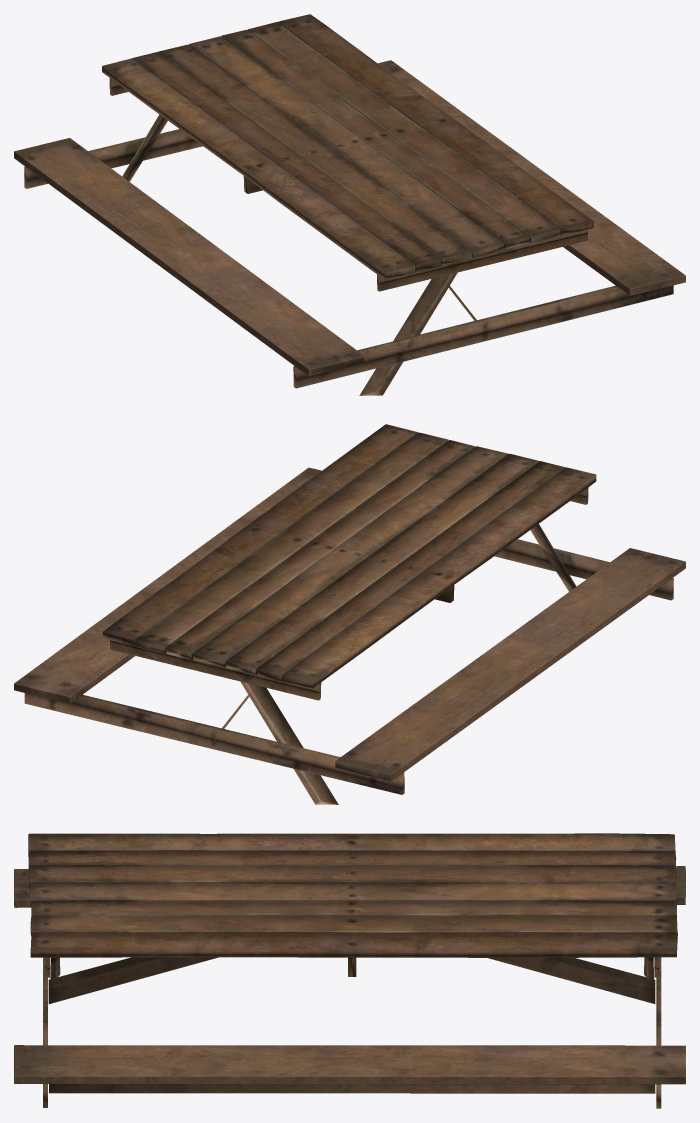
The model's file is p_picnic.glb.
3 renders of one model, top to bottom at view 1: azimuth 30°, elevation 25°; view 2: azimuth 150°, elevation 25°; view 3: azimuth 270°, elevation 25°, orthographic. The views are drawn at different scales.
Parts seen in each view (by area): view 1: wooden_picnic_table; view 2: wooden_picnic_table; view 3: wooden_picnic_table.
Boxes of the visible parts, box(x1,y1,x2,y2) form: wooden_picnic_table: box(14, 14, 685, 395); wooden_picnic_table: box(14, 424, 685, 804); wooden_picnic_table: box(14, 833, 685, 1108).
Bounding box in the file's own units: 2.24 × 0.7431 × 3.02.
Materials: 2 (2 with a texture image).
